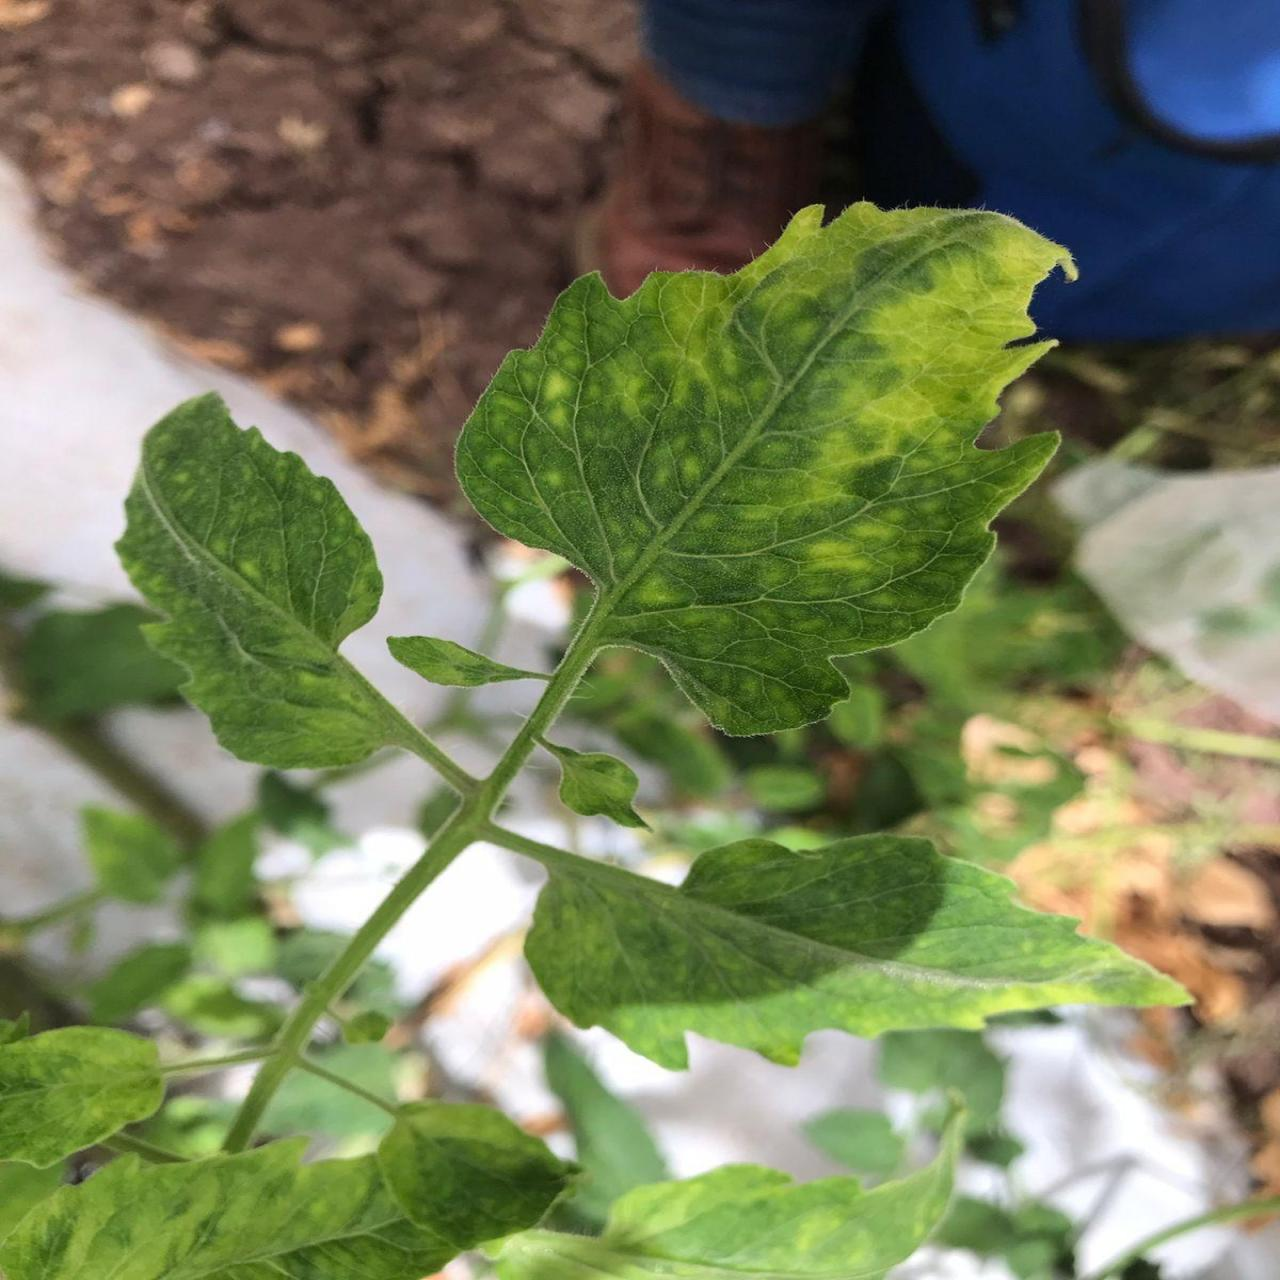T_L_R: (458, 206, 1068, 736), (477, 826, 1189, 1073), (118, 396, 418, 769), (498, 1121, 961, 1280), (4, 1141, 458, 1280), (1, 1029, 164, 1169), (542, 741, 648, 829), (388, 636, 551, 689)
T_S_R: (229, 584, 608, 1151)
